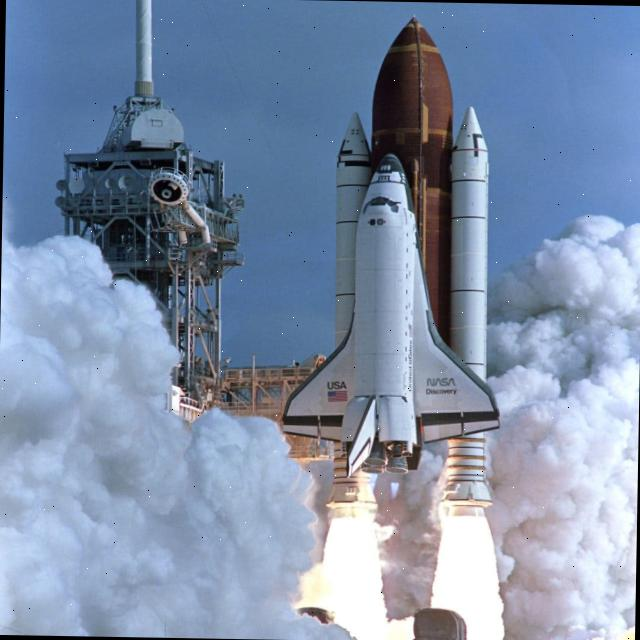rocket: (274, 146, 492, 460)
